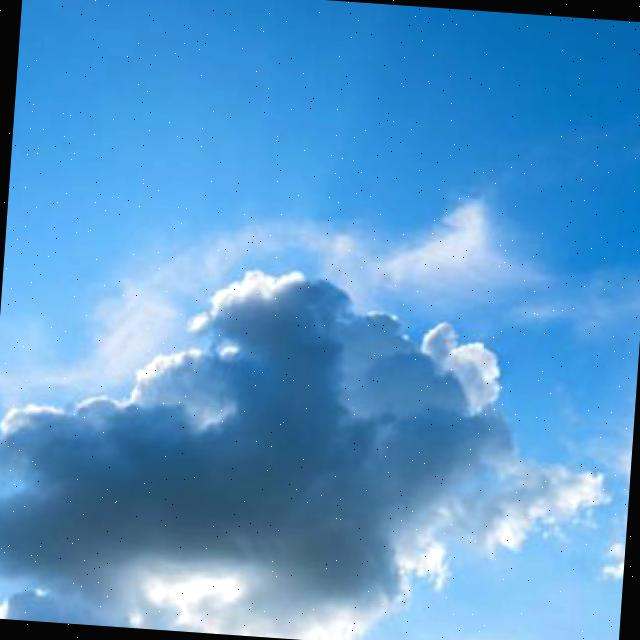As: (1, 238, 639, 640)
